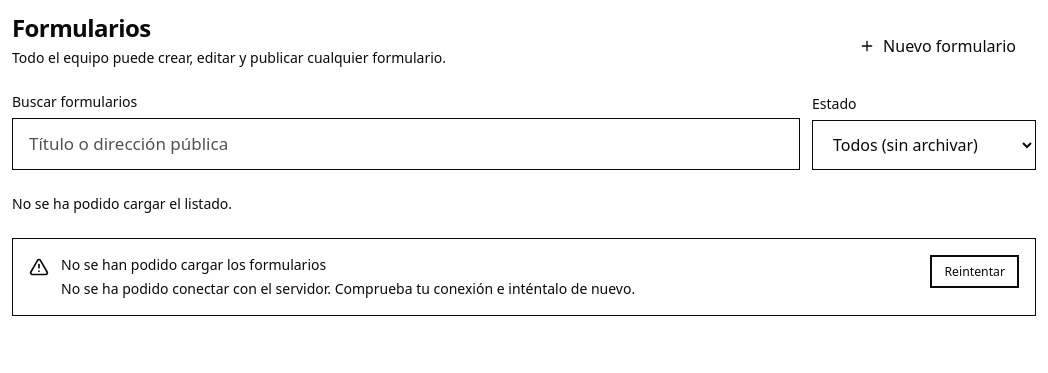
Test: ListadoFormularios · errores › enseña el fallo de red y permite reintentar
The width and height of the screenshot is (1048, 373).
Expected: the message that starts with "No se han podido cargar los formularios" is shown, [61,254,326,274]
Expected: the message that starts with "No se han podido cargar los formularios" shows "No se ha podido conectar con el servidor. Comprueba tu conexión e inténtalo de nuevo.", [61,278,635,298]
What coordinates should you click on to do the following:
click the button "Reintentar"
I would click on:
 (975, 271)
Its box is [930,254,1019,288].
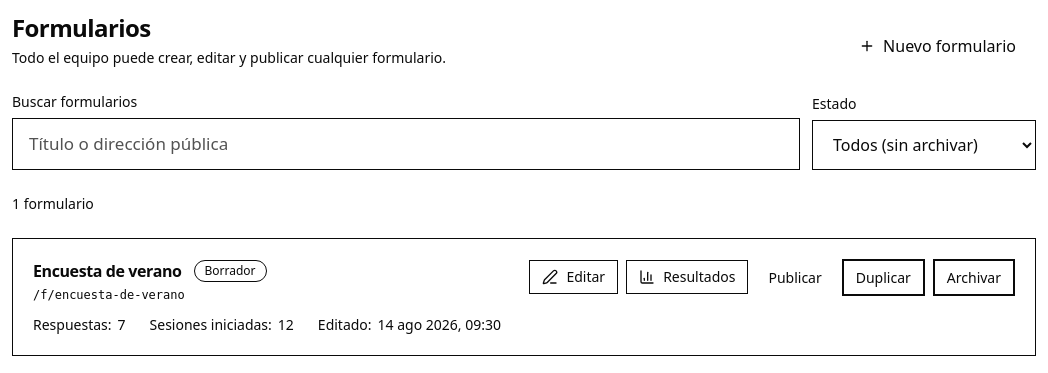
Result: the link "Encuesta de verano" is shown at [33,260,182,282]
